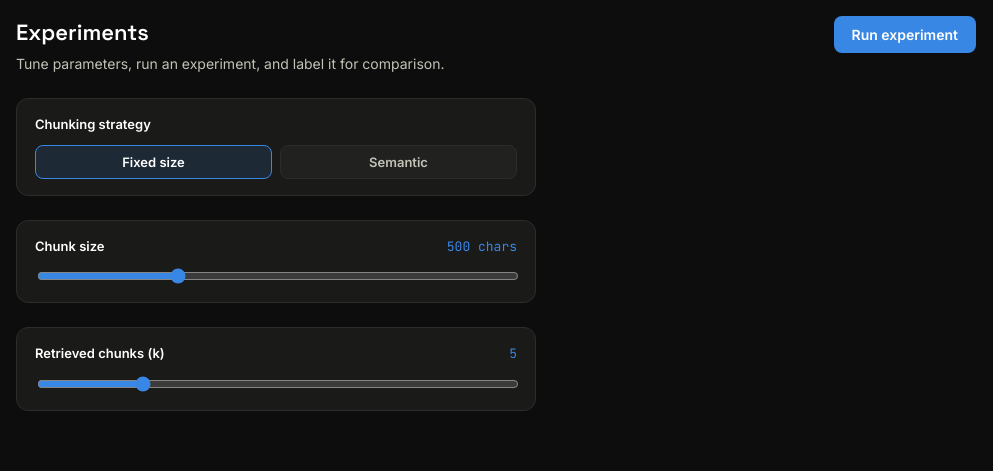
Test: ExperimentsView › shows a failed experiment without crashing
Expected: the text "500 chars" is shown, [447,236,517,256]
Click the button "Run experiment" at (905, 34), box [834,16,976,53]
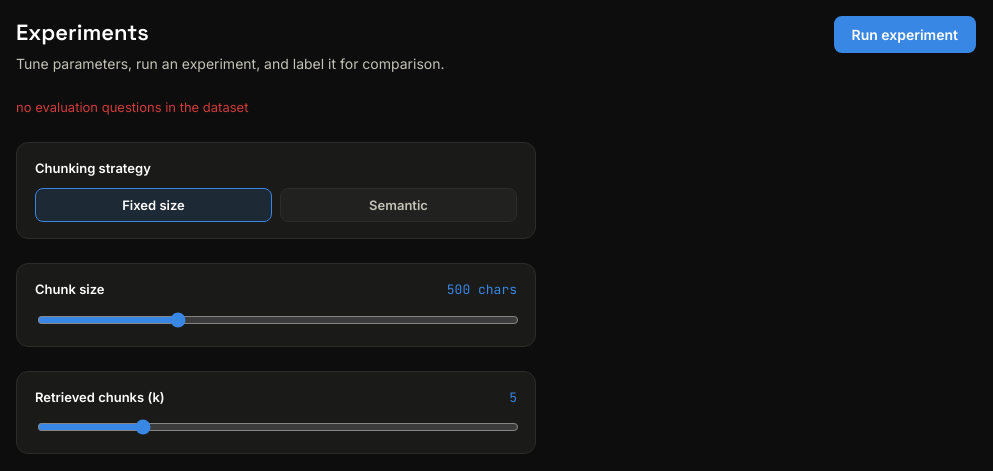
Now the text "no evaluation questions in the dataset" is shown, box [16,99,248,115]
